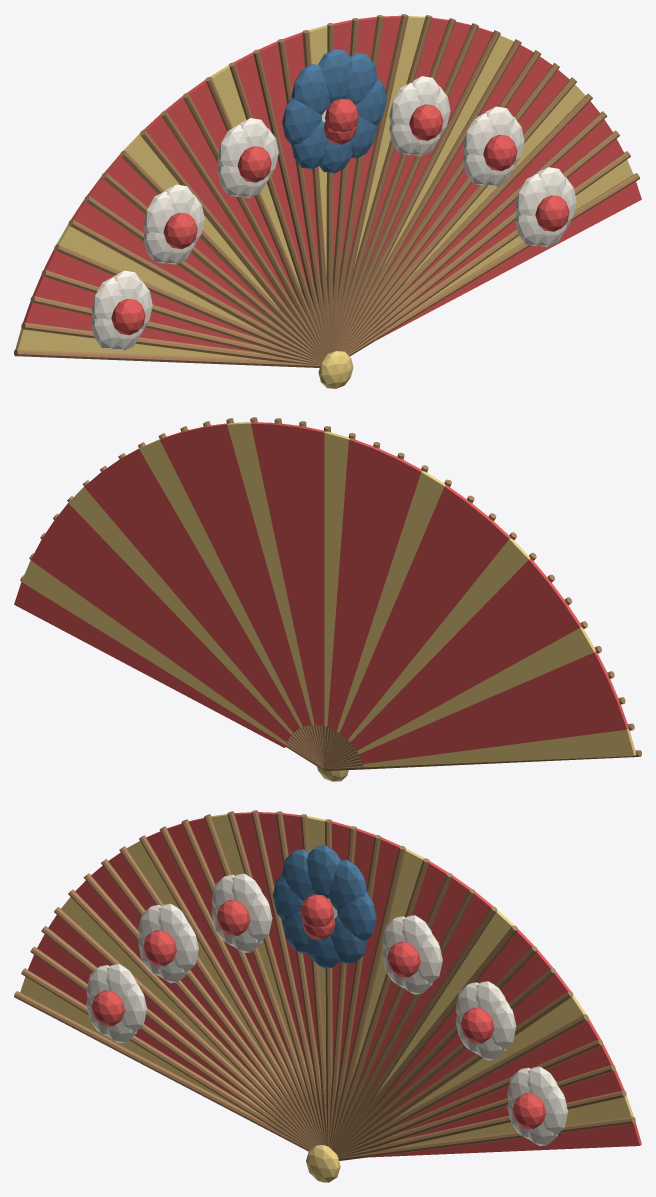
File: local_awaodori_fan.glb
The picture shows the model from 3 angles, top to bottom: view 1: azimuth 30°, elevation 25°; view 2: azimuth 150°, elevation 25°; view 3: azimuth 330°, elevation 25°; orthographic projection.
Visible parts, largest first — view 1: Awa-odori bright festival bamboo fan gold-threaded paper ple (×34), Awa-odori bright festival bamboo fan carved fan bone.024, Awa-odori bright festival bamboo fan carved fan bone.029, Awa-odori bright festival bamboo fan carved fan bone.025, Awa-odori bright festival bamboo fan carved fan bone.020, Awa-odori bright festival bamboo fan carved fan bone, Awa-odori bright festival bamboo fan carved fan bone.030, Awa-odori bright festival bamboo fan carved fan bone.014, Awa-odori bright festival bamboo fan carved fan bone.005, Awa-odori bright festival bamboo fan carved fan bone.010, Awa-odori bright festival bamboo fan carved fan bone.033, Awa-odori bright festival bamboo fan carved fan bone.028 (+57 smaller); view 2: Awa-odori bright festival bamboo fan gold-threaded paper ple (×34), Awa-odori bright festival bamboo fan carved fan bone; view 3: Awa-odori bright festival bamboo fan gold-threaded paper ple (×34), Awa-odori bright festival bamboo fan carved fan bone.009, Awa-odori bright festival bamboo fan carved fan bone.010, Awa-odori bright festival bamboo fan carved fan bone.005, Awa-odori bright festival bamboo fan carved fan bone, Awa-odori bright festival bamboo fan carved fan bone.014, Awa-odori bright festival bamboo fan carved fan bone.004, Awa-odori bright festival bamboo fan carved fan bone.020, Awa-odori bright festival bamboo fan carved fan bone.029, Awa-odori bright festival bamboo fan carved fan bone.024, Awa-odori bright festival bamboo fan carved fan bone.006, Awa-odori bright festival bamboo fan carved fan bone.001 (+57 smaller).
Boxes of the visible parts, <box> form: Awa-odori bright festival bamboo fan gold-threaded paper ple (×34): <box>15,15,641,358</box>; Awa-odori bright festival bamboo fan carved fan bone.024: <box>338,30,500,351</box>; Awa-odori bright festival bamboo fan carved fan bone.029: <box>344,93,592,351</box>; Awa-odori bright festival bamboo fan carved fan bone.025: <box>339,39,521,351</box>; Awa-odori bright festival bamboo fan carved fan bone.020: <box>333,14,408,351</box>; Awa-odori bright festival bamboo fan carved fan bone: <box>14,349,320,367</box>; Awa-odori bright festival bamboo fan carved fan bone.030: <box>345,111,607,352</box>; Awa-odori bright festival bamboo fan carved fan bone.014: <box>253,49,328,353</box>; Awa-odori bright festival bamboo fan carved fan bone.005: <box>68,219,321,361</box>; Awa-odori bright festival bamboo fan carved fan bone.010: <box>160,110,325,357</box>; Awa-odori bright festival bamboo fan carved fan bone.033: <box>348,173,639,356</box>; Awa-odori bright festival bamboo fan carved fan bone.028: <box>343,77,576,351</box>; Awa-odori bright festival bamboo fan gold-threaded paper ple (×34): <box>14,422,635,767</box>; Awa-odori bright festival bamboo fan carved fan bone: <box>324,750,641,771</box>; Awa-odori bright festival bamboo fan gold-threaded paper ple (×34): <box>20,812,641,1157</box>; Awa-odori bright festival bamboo fan carved fan bone.009: <box>139,835,319,1144</box>; Awa-odori bright festival bamboo fan carved fan bone.010: <box>159,826,320,1144</box>; Awa-odori bright festival bamboo fan carved fan bone.005: <box>68,889,315,1146</box>; Awa-odori bright festival bamboo fan carved fan bone: <box>14,991,309,1151</box>; Awa-odori bright festival bamboo fan carved fan bone.014: <box>251,810,325,1145</box>; Awa-odori bright festival bamboo fan carved fan bone.004: <box>54,907,314,1147</box>; Awa-odori bright festival bamboo fan carved fan bone.020: <box>330,845,405,1148</box>; Awa-odori bright festival bamboo fan carved fan bone.029: <box>337,1014,588,1155</box>; Awa-odori bright festival bamboo fan carved fan bone.024: <box>333,906,497,1151</box>; Awa-odori bright festival bamboo fan carved fan bone.006: <box>83,873,316,1145</box>; Awa-odori bright festival bamboo fan carved fan bone.001: <box>21,968,310,1149</box>.
Bounding box in the file's own units: 1.95 × 1.07 × 0.1182.
